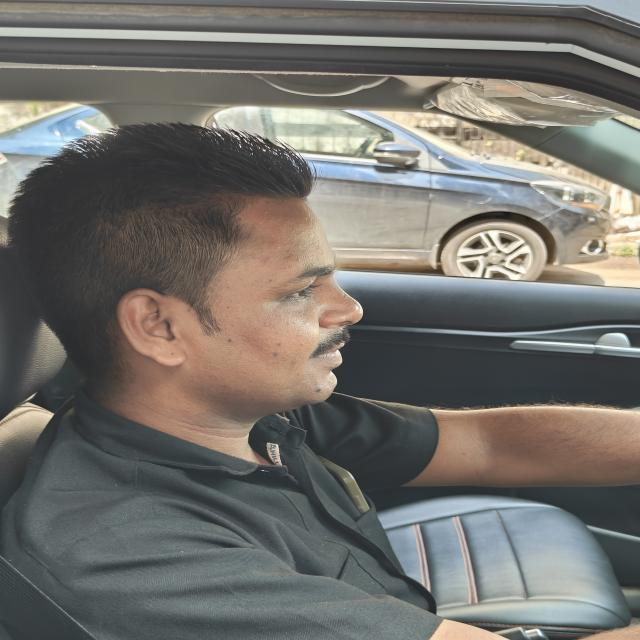no-seatbelt: (0, 402, 497, 640)
